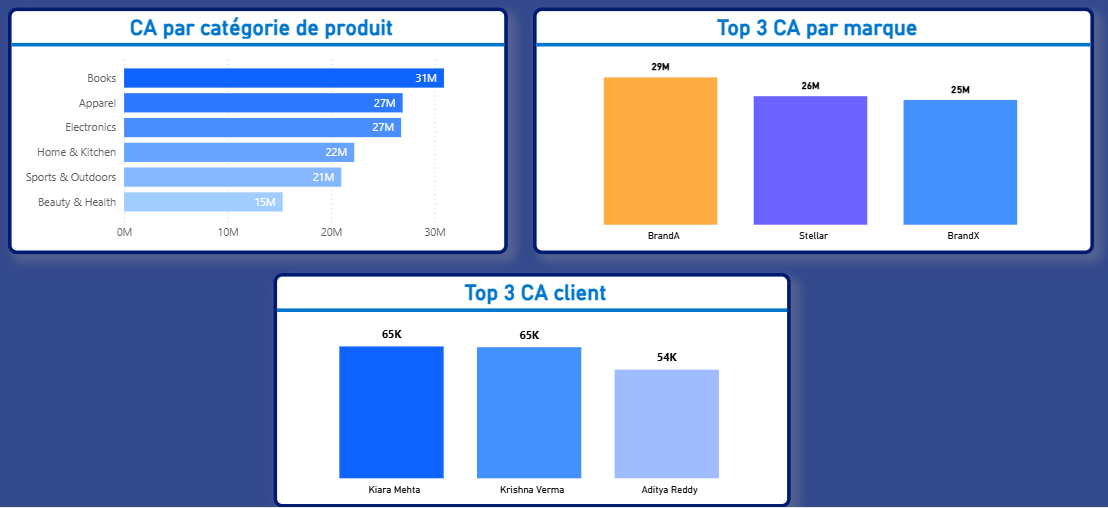

This screenshot's page, from the dashboard's own definition file:
{"tool":"powerbi","page":{"name":"Performances commerciales","canvas":[1280,720],"ordinal":2},"visuals":[{"type":"shape","box":[0,0,1279.4,139.8],"z":0},{"type":"clusteredBarChart","title":"CA par catégorie de produit","fields":{"Category":["Products.Category"],"Y":["Orders.CA Par category"]},"box":[34,164.4,555.6,274],"z":1000},{"type":"columnChart","title":"Top 3 CA par marque","fields":{"Category":["Products.Brand"],"Y":["Orders.CA Par category"]},"box":[616.1,164.4,623.6,274],"z":2000},{"type":"image","box":[0,0,145.5,139.8],"z":3000},{"type":"textbox","box":[353.4,39.7,574.5,58.6],"z":4000},{"type":"columnChart","title":"Top 3 CA client","fields":{"Category":["Customers.FullName"],"Y":["Orders.CA par Client"]},"box":[328.8,459.2,574.5,260.8],"z":5000}]}

Visuals, with their boxes on the page's 1280x720 design canvas (x1, y1, x2, y2). These are canvas units, not pixel positions in the 1108x508 screenshot, which may show the page scaled, cropped or inside an application window:
shape: box(0, 0, 1279, 140)
"CA par catégorie de produit" clusteredBarChart: box(34, 164, 590, 438)
"Top 3 CA par marque" columnChart: box(616, 164, 1240, 438)
image: box(0, 0, 146, 140)
textbox: box(353, 40, 928, 98)
"Top 3 CA client" columnChart: box(329, 459, 903, 720)
